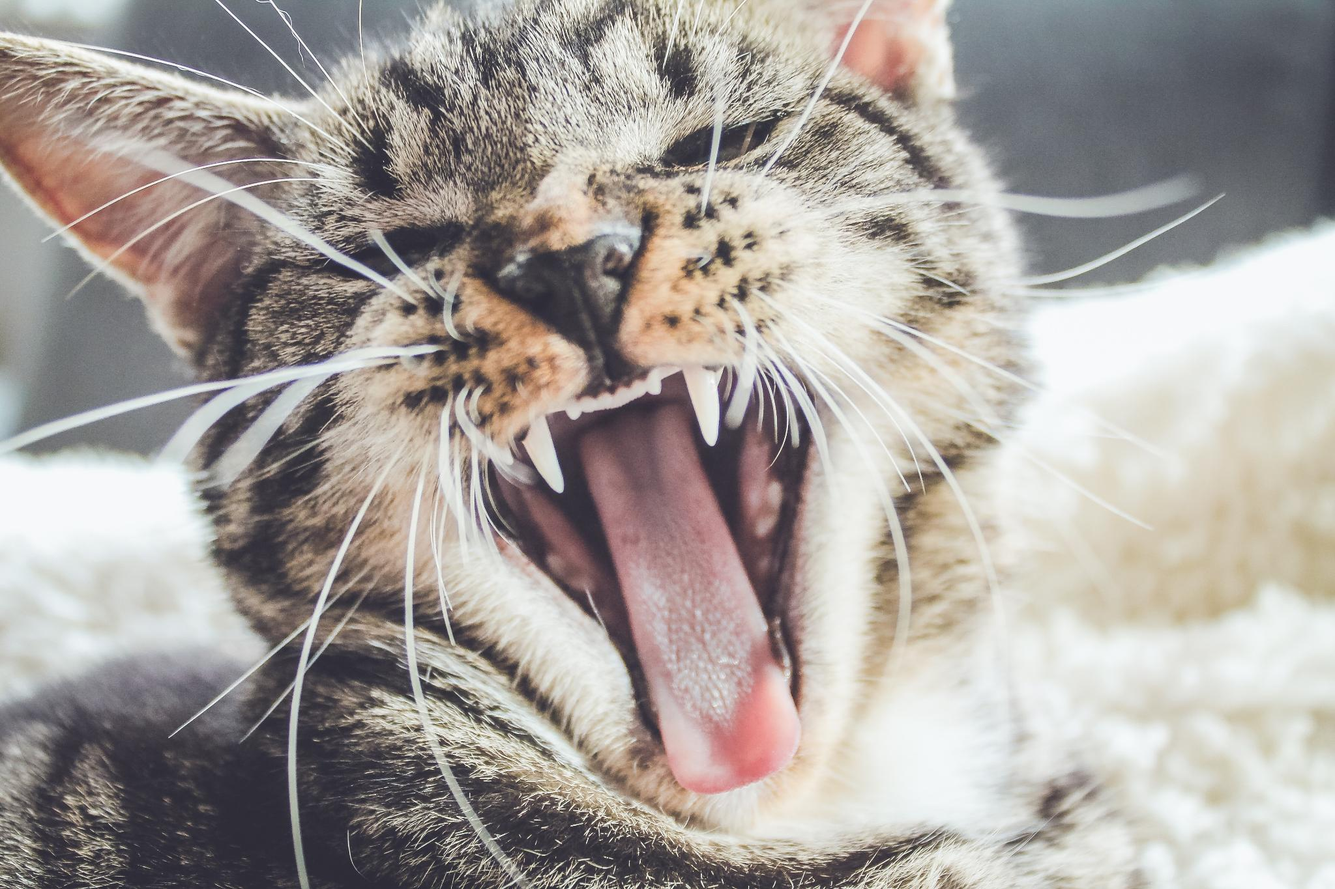cat: (1, 1, 1223, 887)
